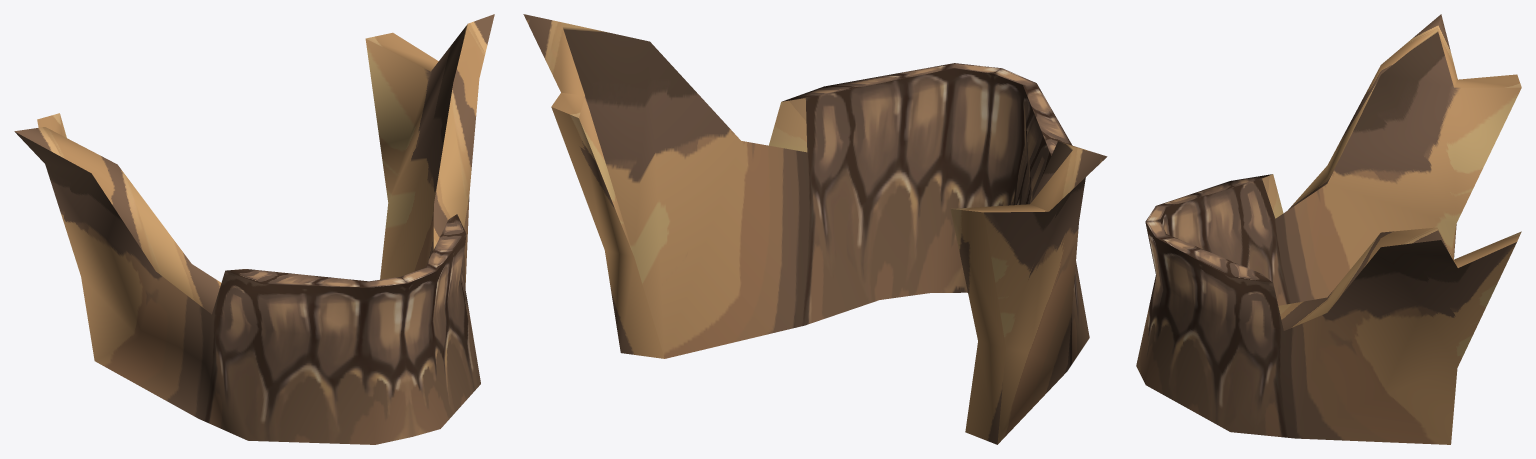
The model's file is SM_PROP_skeleton_skull_jaw_dungeon.fbx.
3 renders of one model, left to right at view 1: azimuth 30°, elevation 25°; view 2: azimuth 150°, elevation 25°; view 3: azimuth 270°, elevation 25°, orthographic. The views are drawn at different scales.
Parts seen in each view (by area): view 1: SM_PROP_skeleton_skull_jaw_dungeon; view 2: SM_PROP_skeleton_skull_jaw_dungeon; view 3: SM_PROP_skeleton_skull_jaw_dungeon.
Part boxes in pixels (x1,y1,x2,y2): SM_PROP_skeleton_skull_jaw_dungeon: (14,14,494,444); SM_PROP_skeleton_skull_jaw_dungeon: (523,14,1107,444); SM_PROP_skeleton_skull_jaw_dungeon: (1136,14,1521,444).
Size of the model in its own units: 18.36 by 9.88 by 13.25.
